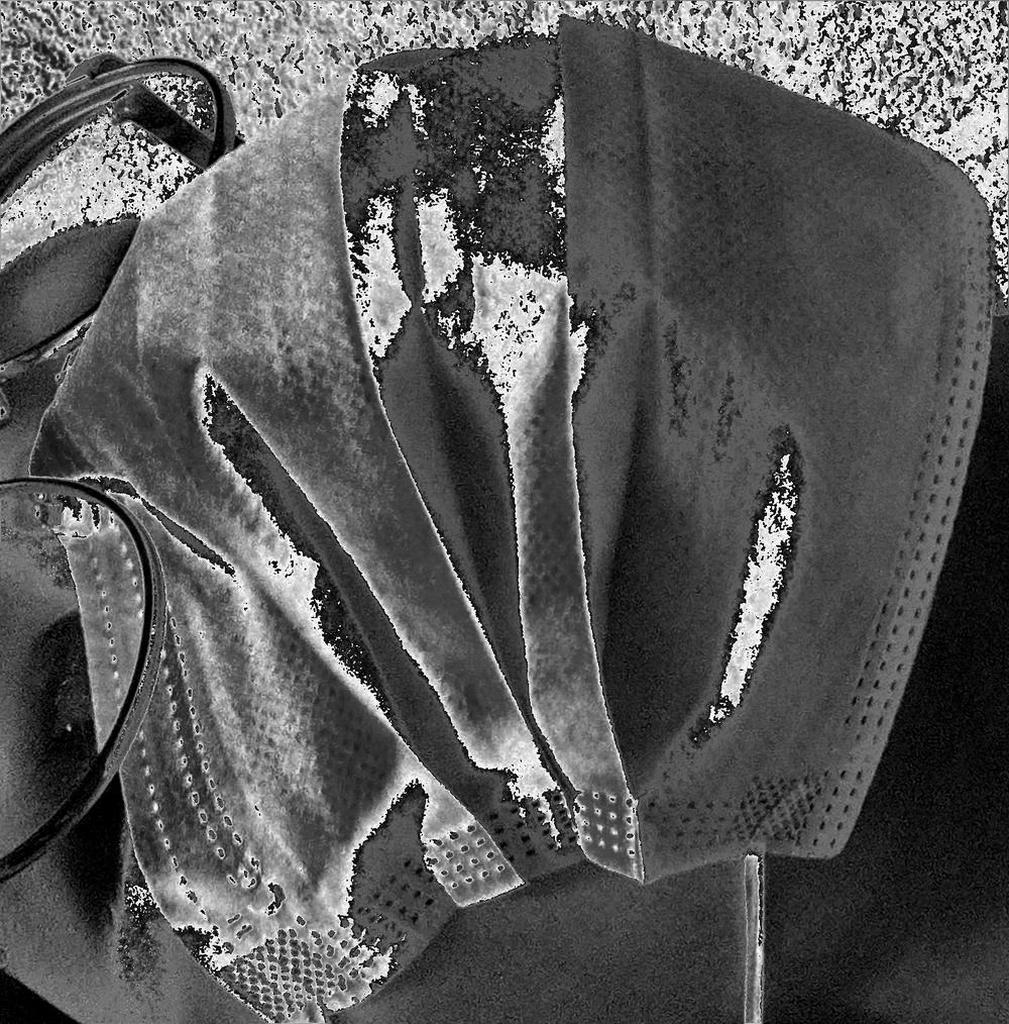Low GSM: (23, 9, 999, 1024)
